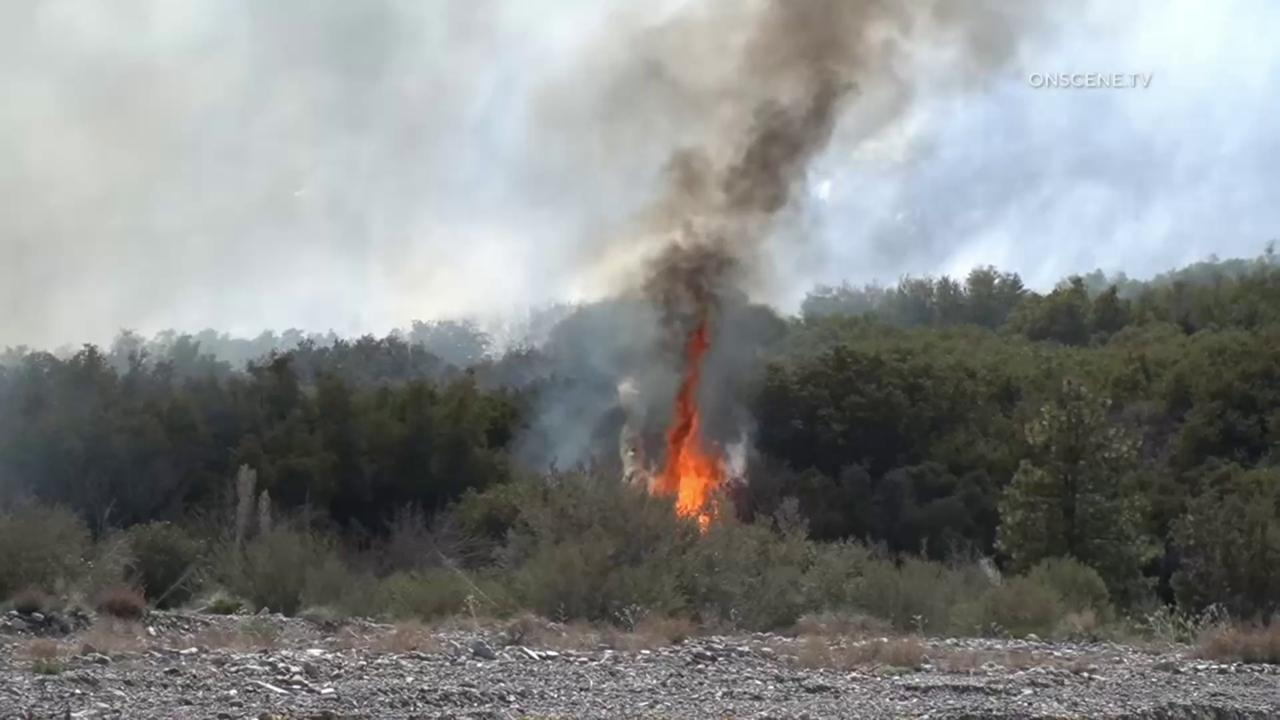fire: (652, 327, 726, 534)
smoke: (0, 0, 1280, 502)
